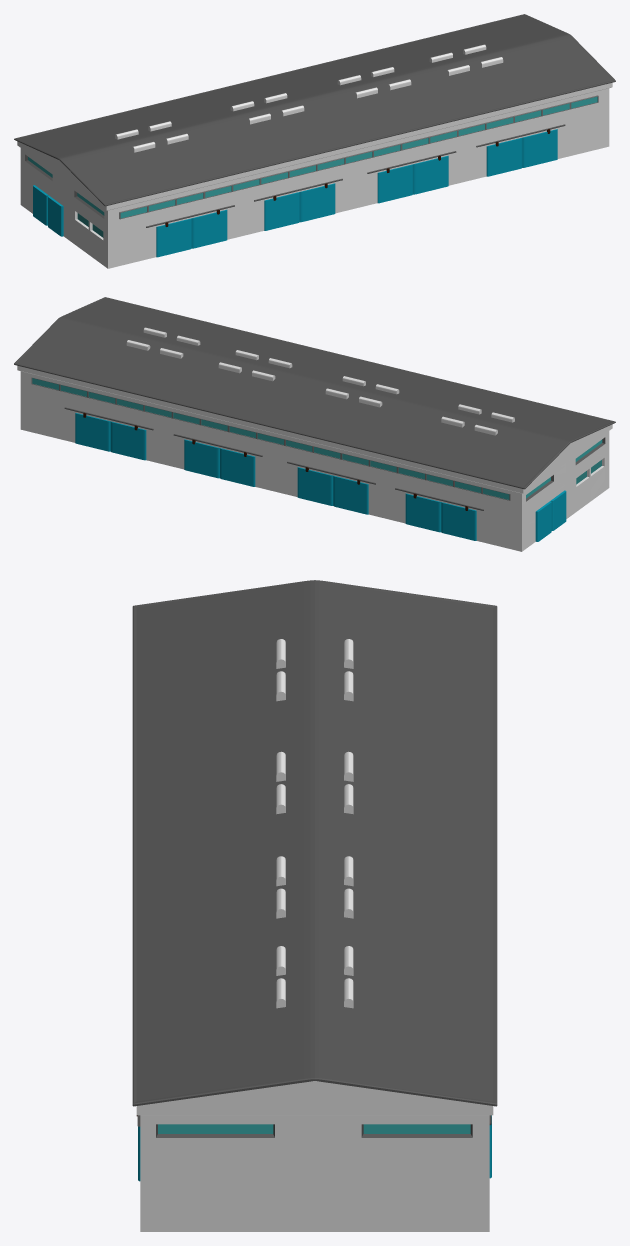
File: bjck7.fbx
3 renders of one model, top to bottom at view 1: azimuth 30°, elevation 25°; view 2: azimuth 150°, elevation 25°; view 3: azimuth 270°, elevation 25°, orthographic. The views are drawn at different scales.
Visible parts, largest first — view 1: pCube14; view 2: pCube14; view 3: pCube14.
Part boxes in pixels (<box>): pCube14: <box>14,14,615,268</box>; pCube14: <box>14,297,615,551</box>; pCube14: <box>132,580,497,1231</box>.
Bounding box in the file's own units: 27.94 × 4.25 × 8.63.
